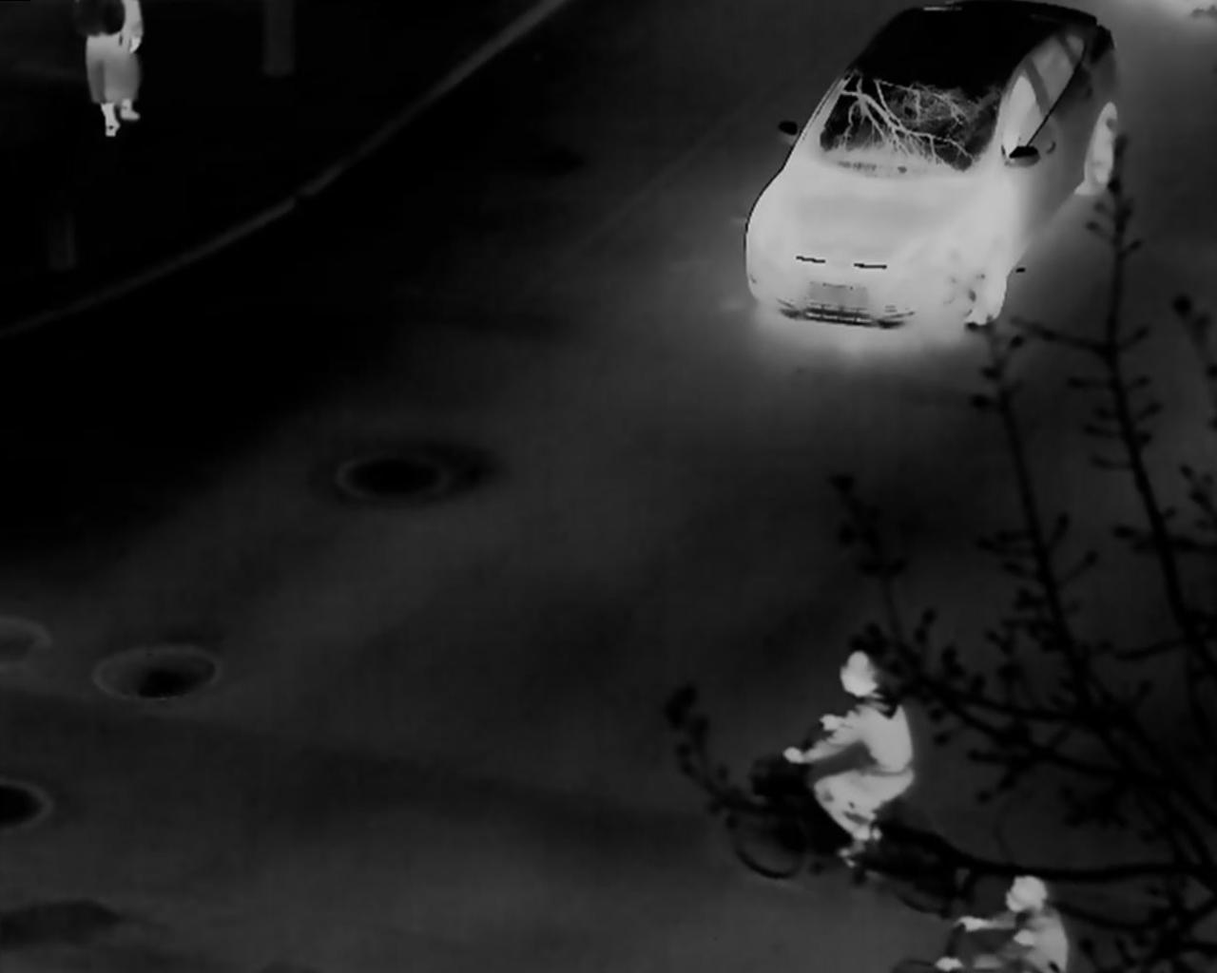person: (782, 650, 918, 861), (933, 873, 1071, 973), (77, 2, 145, 139)
